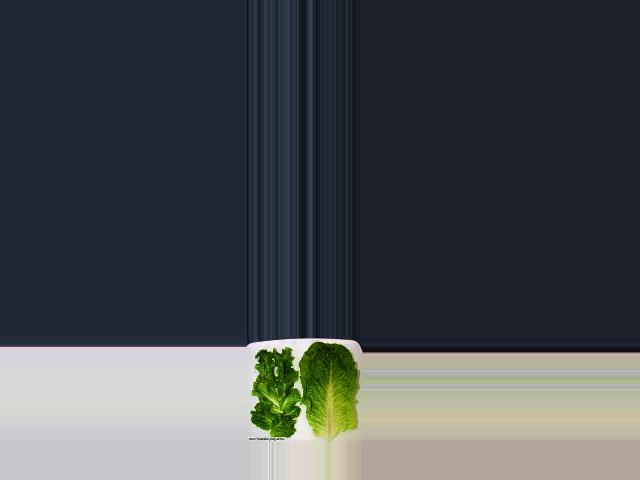lettuce: (245, 347, 298, 434)
